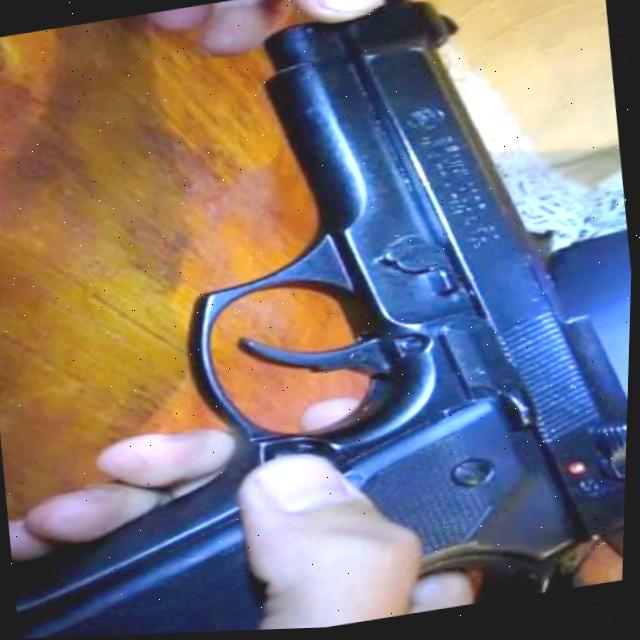pistol: (12, 0, 631, 639)
